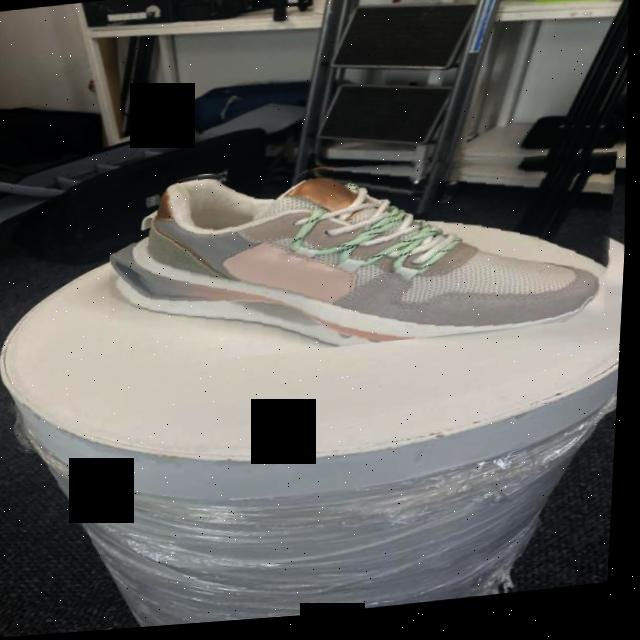shoe: (105, 135, 626, 373)
